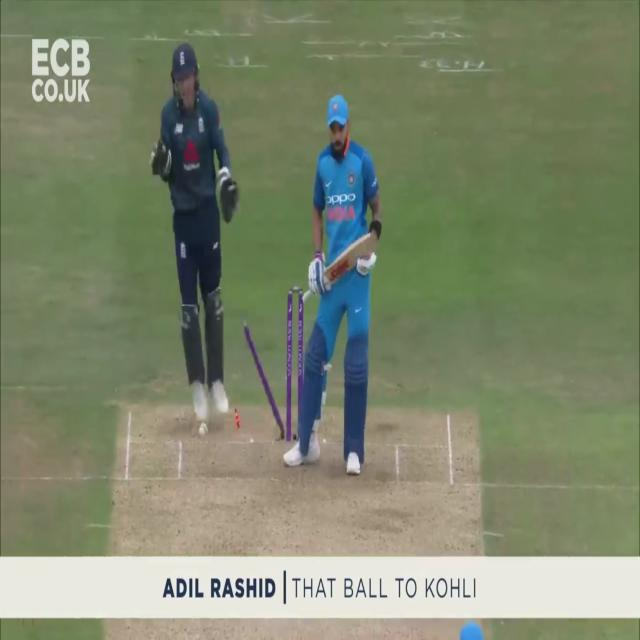ball: (199, 422, 208, 437)
